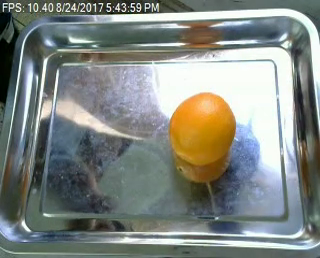Orange: (168, 90, 235, 166)
